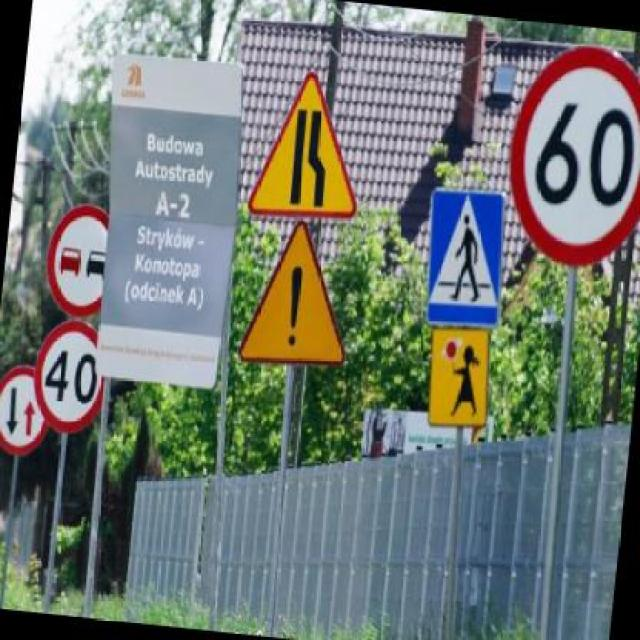Limite-60: (506, 40, 640, 269)
Passage-pieton: (421, 180, 512, 326)
